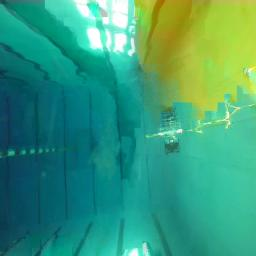front: (164, 139, 180, 155)
